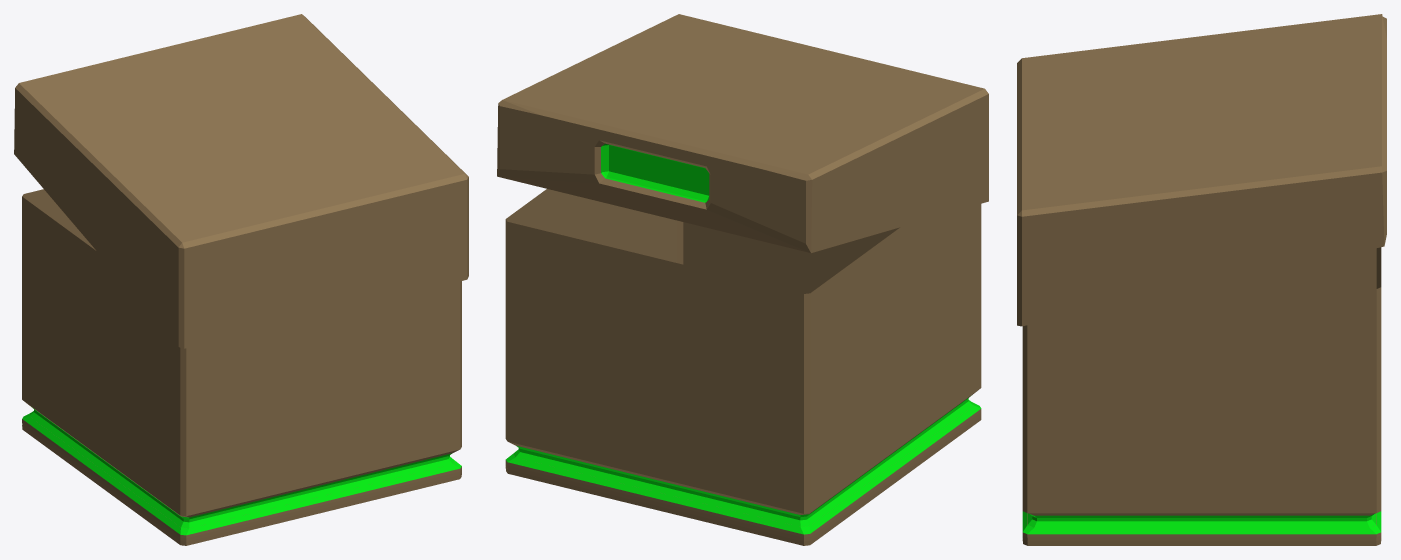
File: Deco_Caixas_Green.fbx
3 views of the same model, side by side, from view 1: azimuth 30°, elevation 25°; view 2: azimuth 150°, elevation 25°; view 3: azimuth 270°, elevation 25° (orthographic). The views are drawn at different scales.
Visible parts, largest first — view 1: Cube.001; view 2: Cube.001; view 3: Cube.001.
Part boxes in pixels (left/top/right/bottom): Cube.001: left=14, top=14, right=468, bottom=545; Cube.001: left=497, top=14, right=988, bottom=545; Cube.001: left=1017, top=14, right=1386, bottom=545.
Size of the model in its own units: 100 by 100 by 113.
